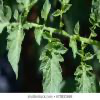Tomato leaf mosaic virus: (38, 46, 62, 92), (7, 23, 26, 81), (40, 1, 52, 24), (34, 24, 45, 46), (69, 36, 78, 60), (42, 31, 51, 41)
